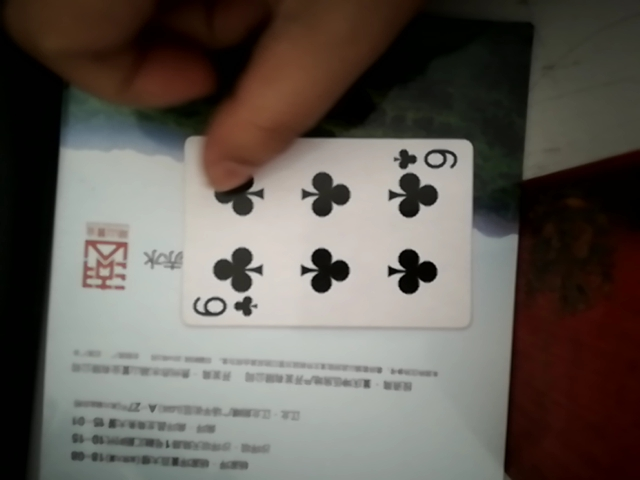mh 6: (165, 132, 479, 333)
